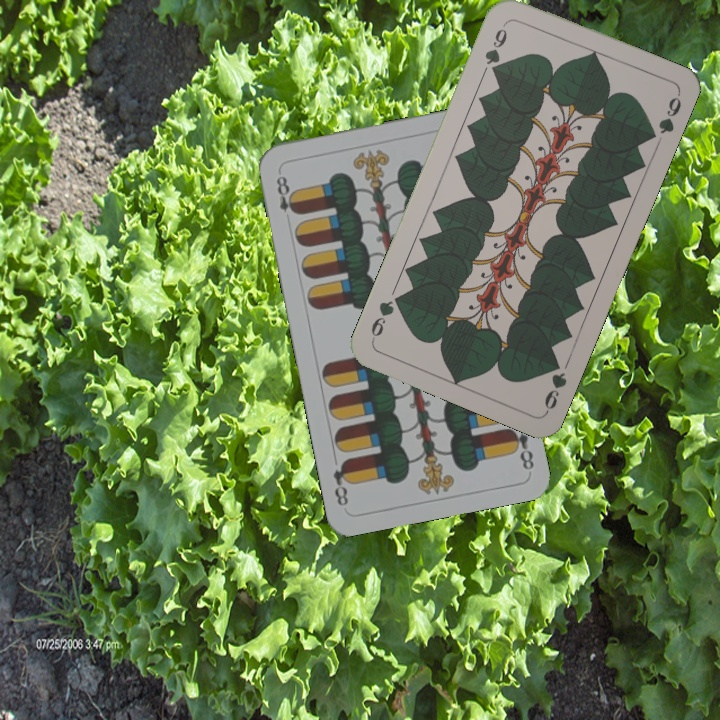E8: (505, 424, 537, 473), (272, 167, 301, 217)
G9: (540, 354, 570, 415), (480, 18, 510, 78)
